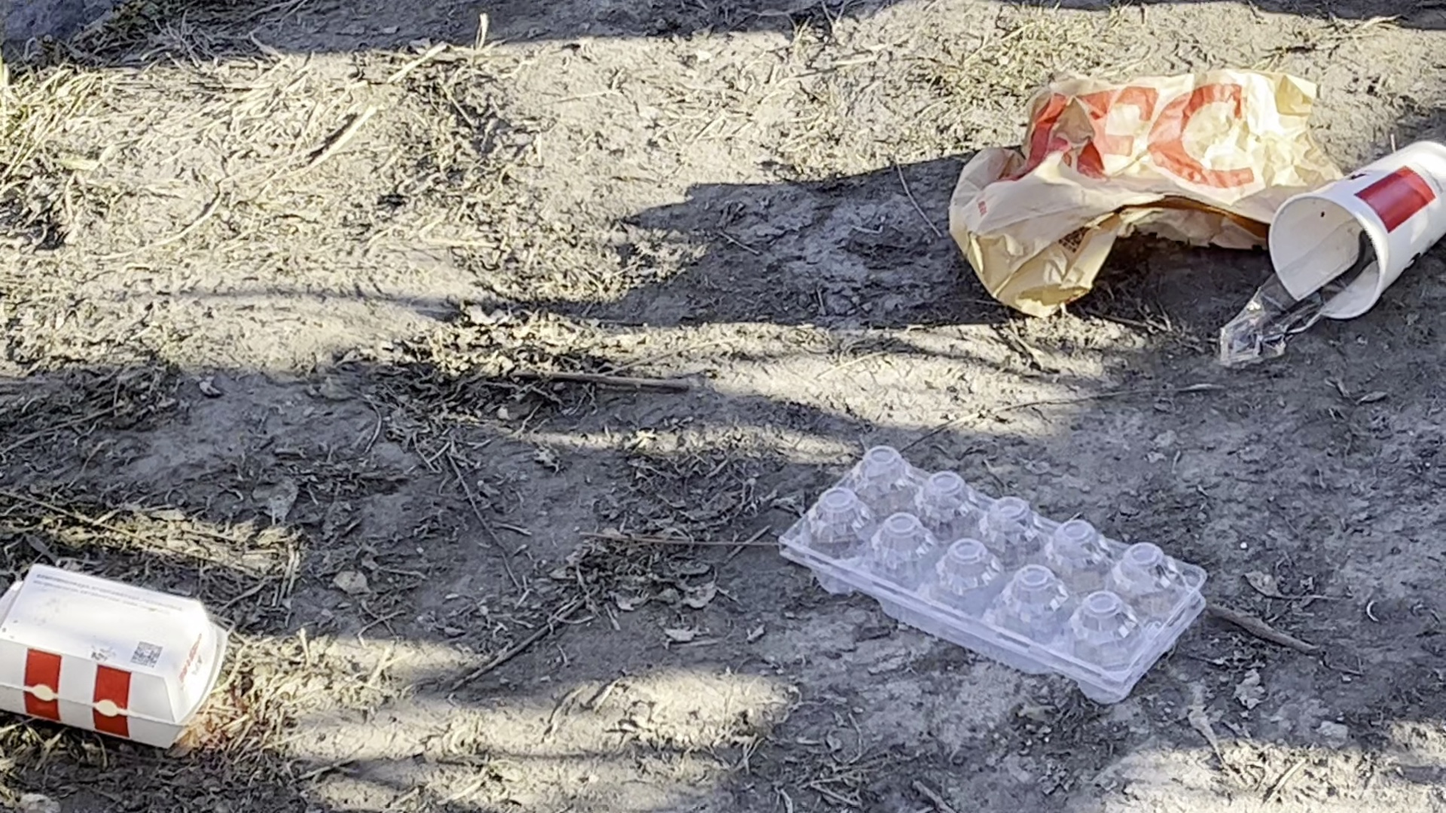floating_object: (777, 448, 1207, 704), (951, 71, 1345, 316), (1219, 141, 1446, 366), (1, 562, 229, 748)
